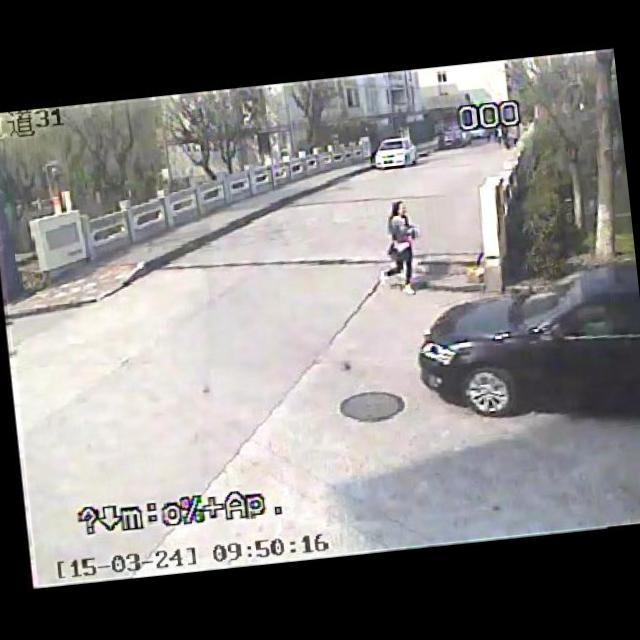person: (370, 192, 434, 300)
